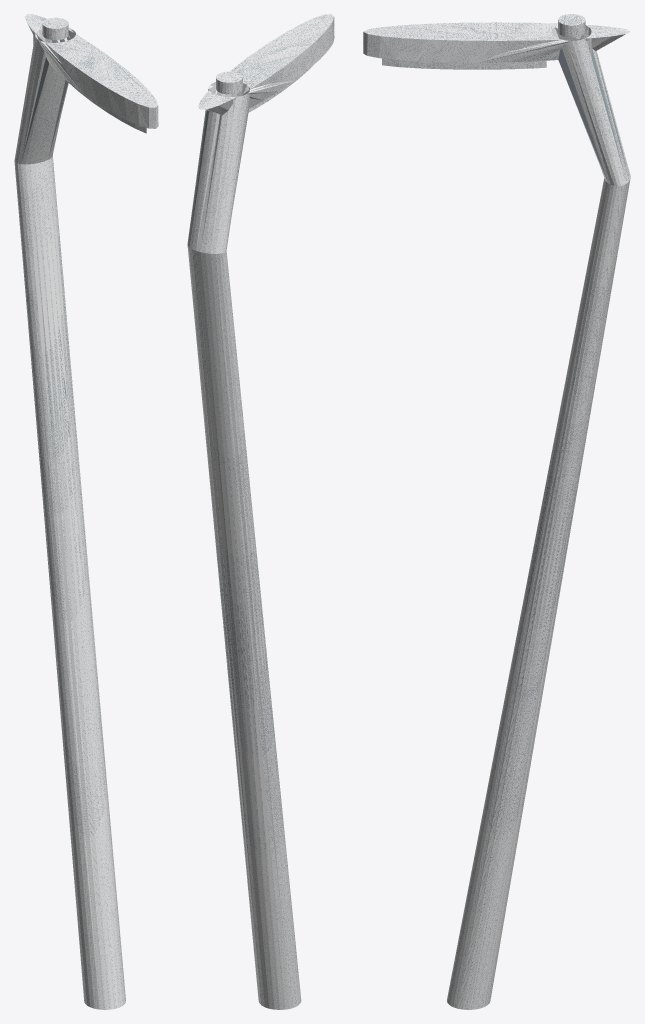
File: lamppost.dae
3 renders of one model, left to right at view 1: azimuth 30°, elevation 25°; view 2: azimuth 150°, elevation 25°; view 3: azimuth 270°, elevation 25°, orthographic. The views are drawn at different scales.
Visible parts, largest first — view 1: instance_0 (×2); view 2: instance_0 (×2); view 3: instance_0 (×2).
Boxes of the visible parts, box(x1,y1,x2,y2) form: instance_0 (×2): box(14, 14, 158, 1009); instance_0 (×2): box(187, 14, 334, 1009); instance_0 (×2): box(363, 22, 630, 1009).
Bounding box in the file's own units: 7.87 × 48.21 × 195.
